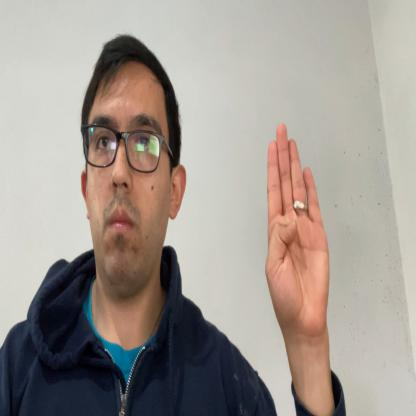B: (266, 124, 330, 338)
